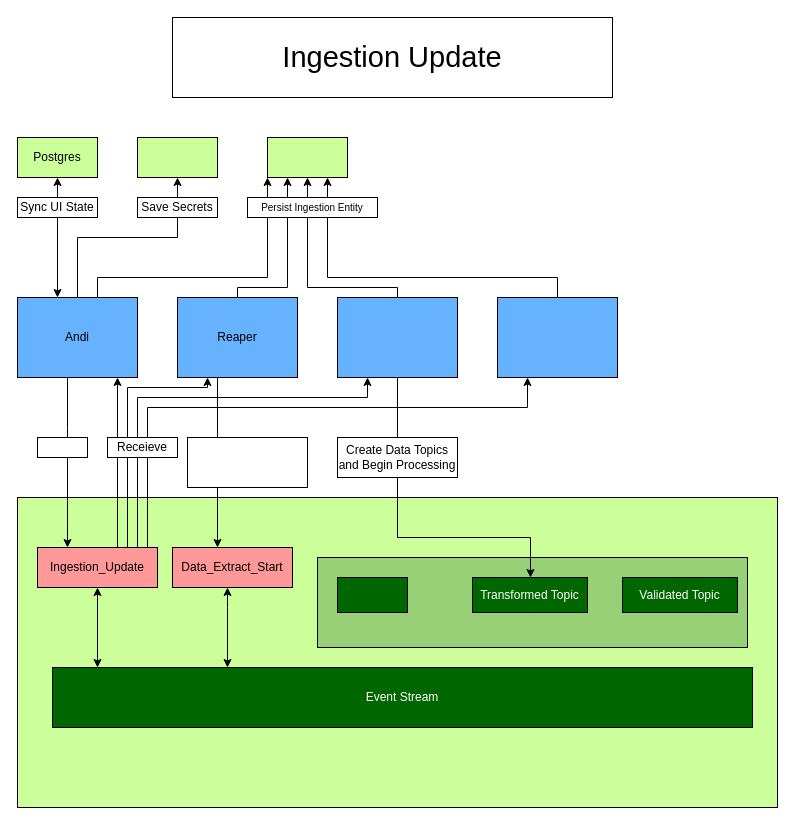
The diagram is 795 pixels wide and 825 high, and some of its shapes have lost their labels. The centre of each missing label's shape, as x and y in pixels:
Alchemist: point 397,337
Forklift: point 557,337
Raw Topic: point 372,594
Redis: point 307,157
Schedule Job to Start Data Processing: point 247,462
Send: point 62,447
Vault: point 177,157
